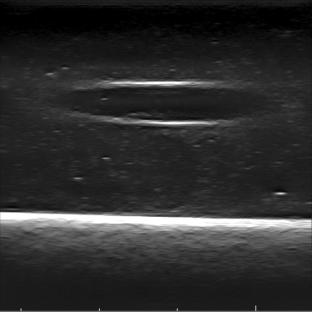vessel: (59, 80, 259, 126)
